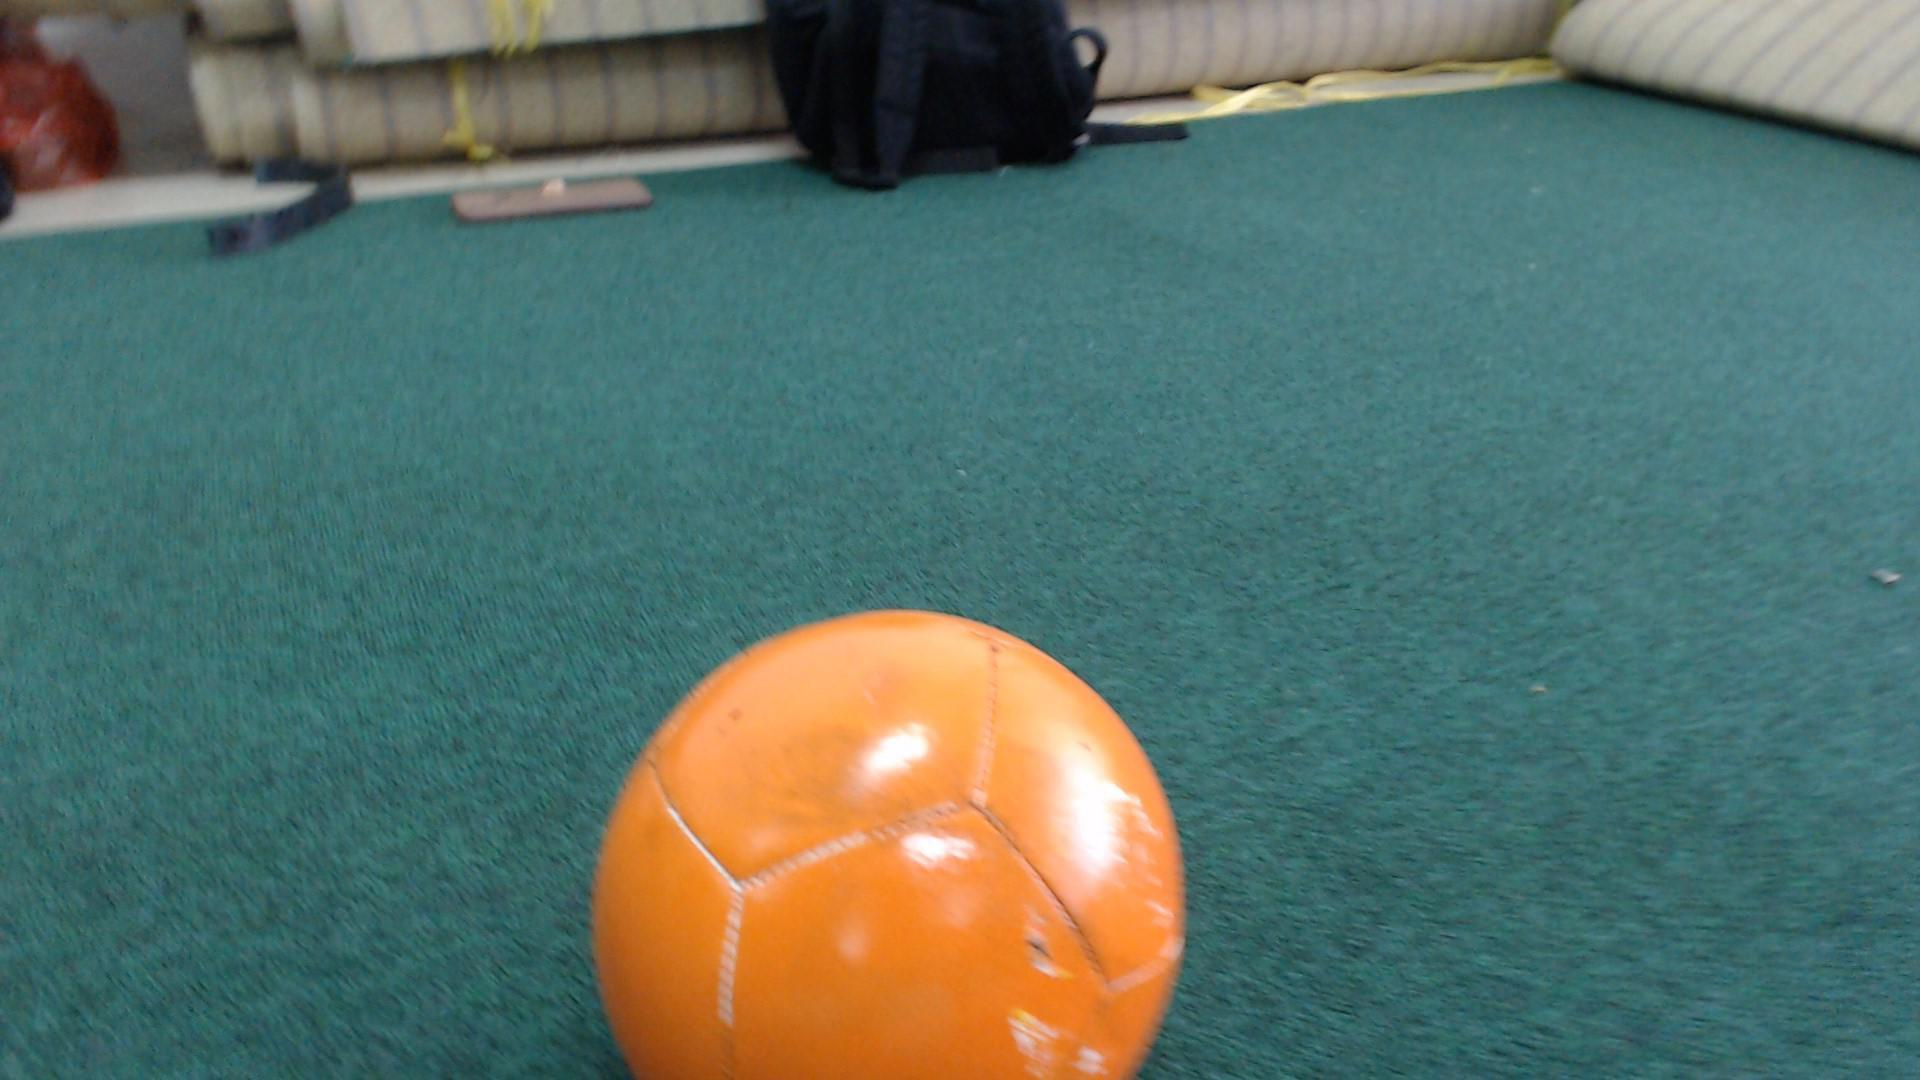bola: (551, 582, 1241, 1079)
